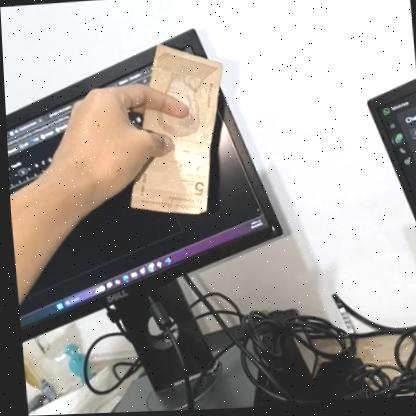five-front-vef: (116, 42, 233, 218)
